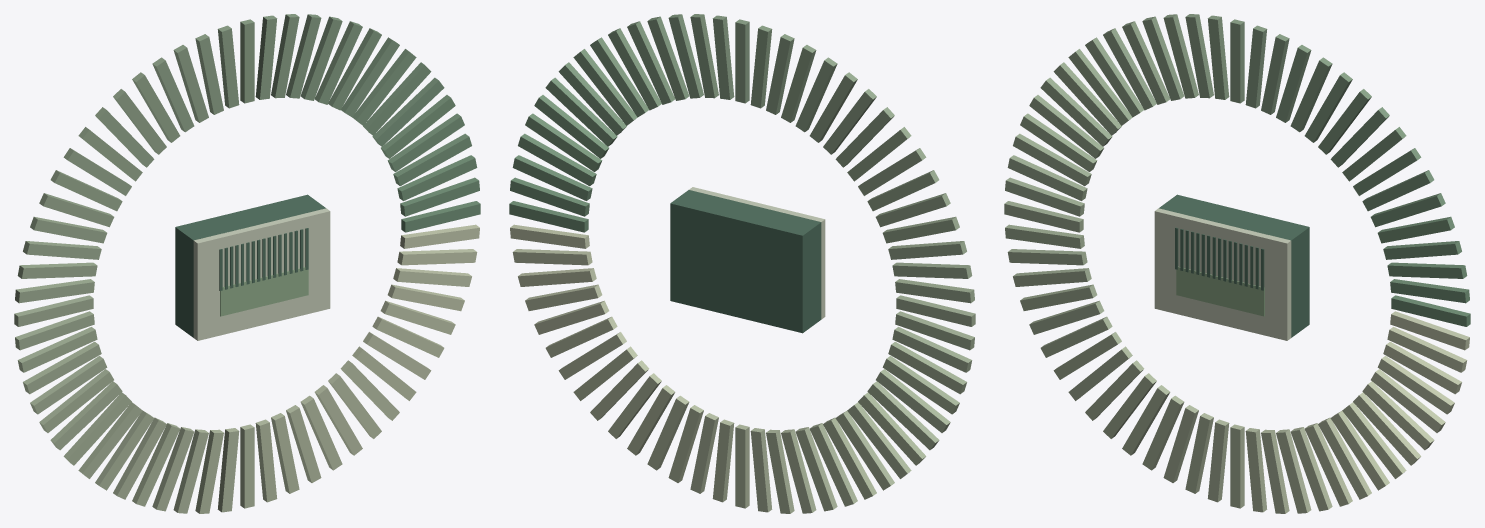
The model's file is cartlock.glb.
3 views of the same model, side by side, from view 1: azimuth 30°, elevation 25°; view 2: azimuth 150°, elevation 25°; view 3: azimuth 330°, elevation 25° (orthographic).
Parts seen in each view (by area): view 1: reserve_central_top, reserve_central_base, reserve_central_label, hold_ring_tick_10, hold_ring_tick_42, hold_ring_tick_11, hold_ring_tick_43, hold_ring_tick_41, hold_ring_tick_09, hold_ring_tick_12, hold_ring_tick_44, hold_ring_tick_06 (+55 smaller); view 2: reserve_central_base, hold_ring_tick_10, hold_ring_tick_42, hold_ring_tick_11, hold_ring_tick_43, hold_ring_tick_41, hold_ring_tick_09, hold_ring_tick_12, hold_ring_tick_44, hold_ring_tick_06, hold_ring_tick_07, hold_ring_tick_38 (+54 smaller); view 3: reserve_central_top, reserve_central_base, reserve_central_label, hold_ring_tick_22, hold_ring_tick_54, hold_ring_tick_21, hold_ring_tick_53, hold_ring_tick_55, hold_ring_tick_23, hold_ring_tick_20, hold_ring_tick_52, hold_ring_tick_25 (+55 smaller).
Part boxes in pixels (box(x1,y1,x2,y2)): reserve_central_top: box(193, 208, 330, 340); reserve_central_base: box(175, 194, 325, 337); reserve_central_label: box(220, 267, 308, 316); hold_ring_tick_10: box(328, 28, 381, 110); hold_ring_tick_42: box(113, 417, 166, 499); hold_ring_tick_11: box(315, 21, 362, 104); hold_ring_tick_43: box(132, 423, 179, 506); hold_ring_tick_41: box(95, 410, 154, 490); hold_ring_tick_09: box(341, 37, 399, 117); hold_ring_tick_12: box(300, 16, 342, 100); hold_ring_tick_44: box(152, 427, 194, 511); hold_ring_tick_06: box(372, 77, 444, 146); reserve_central_base: box(670, 190, 821, 333); hold_ring_tick_10: box(608, 28, 661, 110); hold_ring_tick_42: box(823, 417, 876, 499); hold_ring_tick_11: box(627, 21, 674, 104); hold_ring_tick_43: box(810, 423, 857, 506); hold_ring_tick_41: box(835, 410, 894, 490); hold_ring_tick_09: box(590, 37, 648, 117); hold_ring_tick_12: box(647, 16, 689, 100); hold_ring_tick_44: box(795, 427, 837, 511); hold_ring_tick_06: box(545, 77, 617, 146); hold_ring_tick_07: box(558, 62, 626, 135); hold_ring_tick_38: box(867, 381, 939, 450); reserve_central_top: box(1154, 208, 1291, 340); reserve_central_base: box(1159, 194, 1309, 337); reserve_central_label: box(1176, 266, 1264, 316); hold_ring_tick_22: box(1103, 28, 1156, 110); hold_ring_tick_54: box(1318, 417, 1371, 499); hold_ring_tick_21: box(1122, 21, 1169, 104); hold_ring_tick_53: box(1305, 423, 1352, 506); hold_ring_tick_55: box(1330, 410, 1389, 490); hold_ring_tick_23: box(1085, 37, 1143, 117); hold_ring_tick_20: box(1142, 16, 1184, 100); hold_ring_tick_52: box(1290, 427, 1332, 511); hold_ring_tick_25: box(1053, 62, 1121, 135).
Size of the model in its own units: 6.45 by 6.45 by 0.568.
